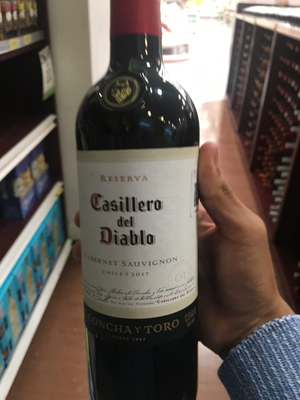casillero del diablo cabernet sauvignon: (73, 13, 202, 400)
